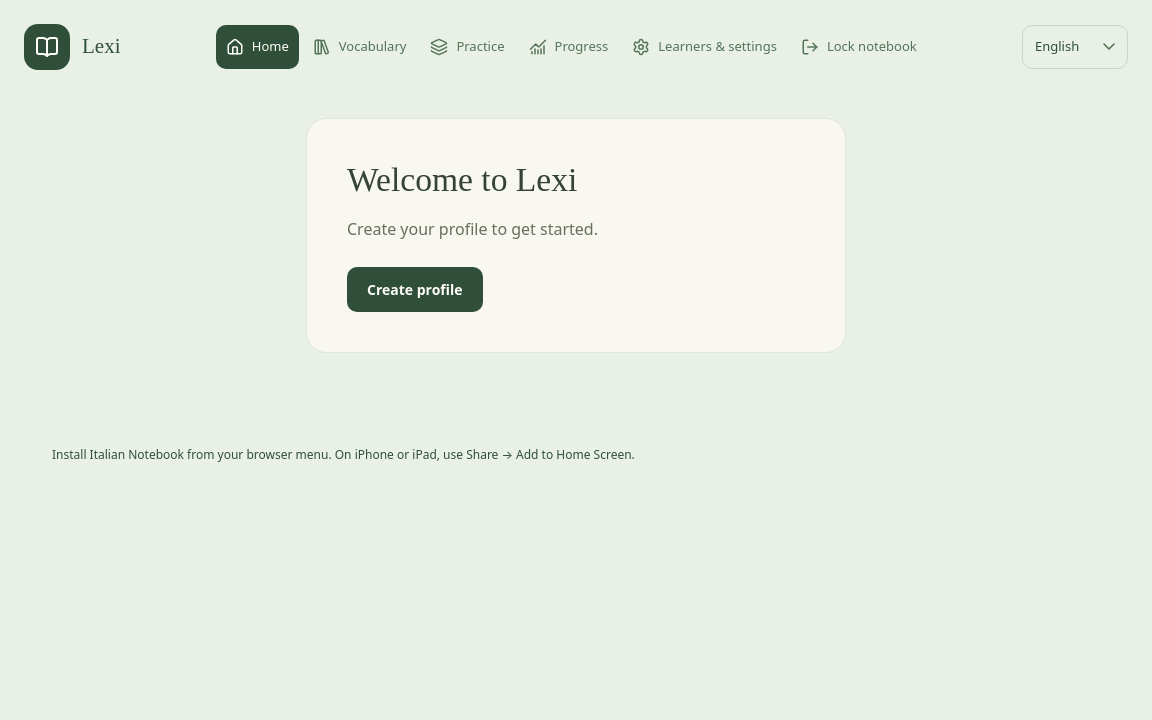
Test: home with no profiles offers creation through settings
The width and height of the screenshot is (1152, 720).
Expected: the text "Create your profile to get started." is shown, x1=347 y1=218 x2=598 y2=240
Expected: the field labelled "Learner profile" is not shown
Click the link "Create profile": click(415, 289) x1=347 y1=267 x2=483 y2=312
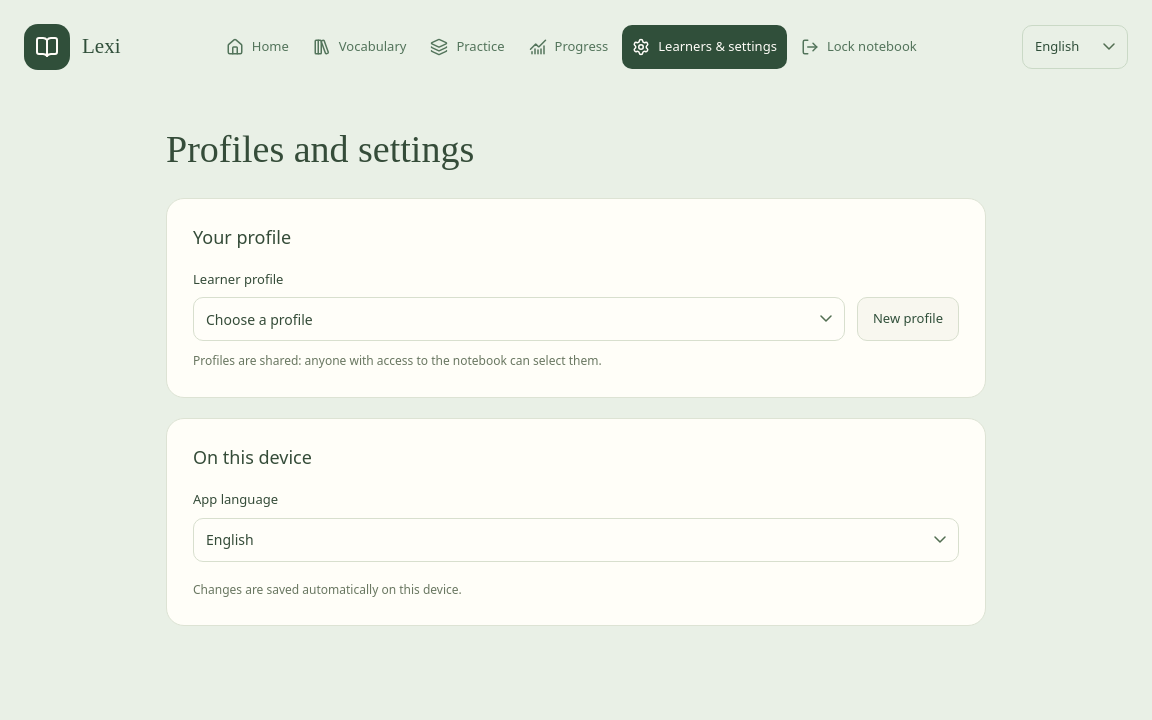
Click the button "New profile": click(908, 319) x1=857 y1=297 x2=959 y2=341
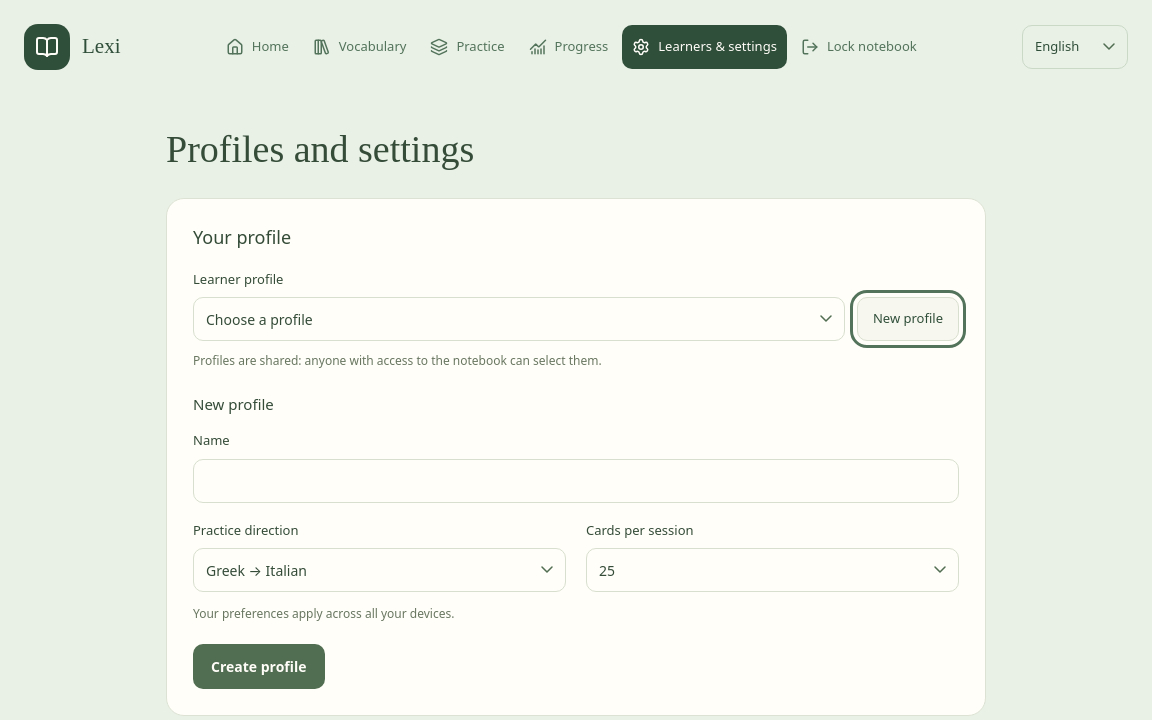
Now the field labelled "Name" is shown, box x1=193 y1=459 x2=959 y2=503
